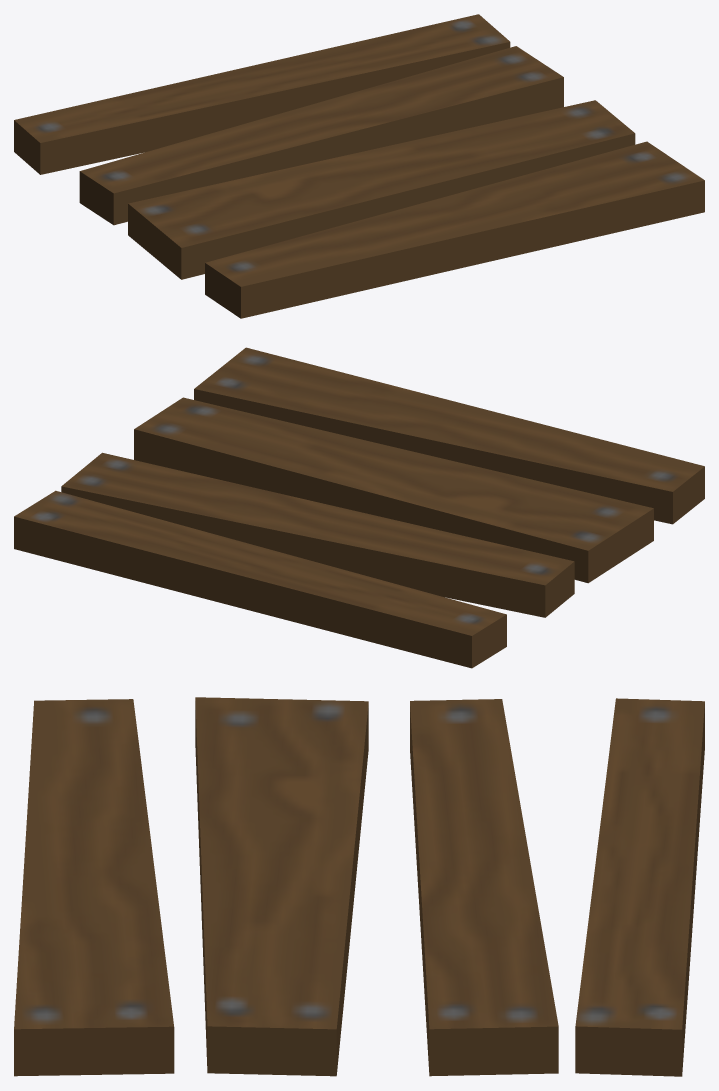
File: bridge_wooden_cross.fbx
3 renders of one model, top to bottom at view 1: azimuth 30°, elevation 25°; view 2: azimuth 150°, elevation 25°; view 3: azimuth 270°, elevation 25°, orthographic. The views are drawn at different scales.
Parts seen in each view (by area): view 1: BridgeWooden_LOD0; view 2: BridgeWooden_LOD0; view 3: BridgeWooden_LOD0.
Boxes of the visible parts, x1=… form: BridgeWooden_LOD0: x1=14, y1=14, x2=704, y2=318; BridgeWooden_LOD0: x1=14, y1=347, x2=704, y2=668; BridgeWooden_LOD0: x1=14, y1=697, x2=704, y2=1076.
Size of what is drawn, in the model's own units: 608 by 40 by 534.
